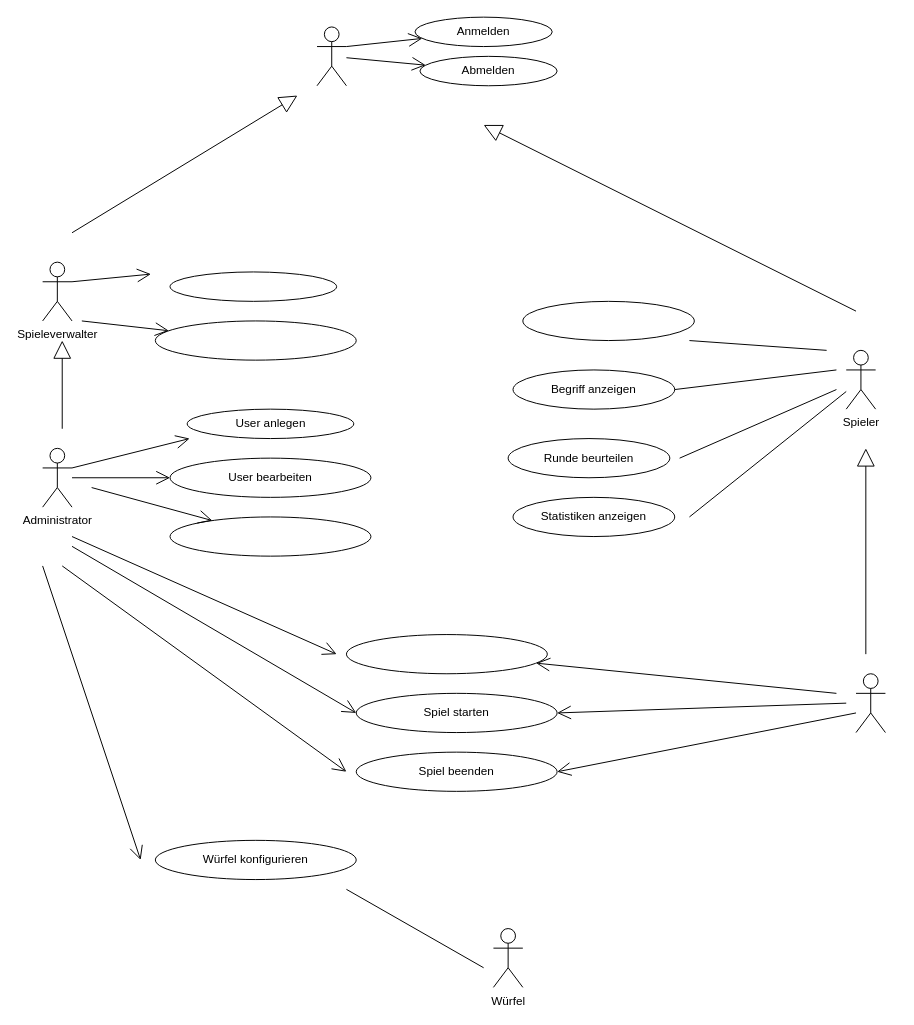
The diagram is 914 pixels wide and 1025 high, and some of its shapes have lost their labels. The centre of each missing label's shape, as x and y in pixels:
"aktuelle Spiele überwachen" belongs at pixel 255 340.
"neues Thema anlegen" belongs at pixel 253 286.
"Spiel konfigurieren" belongs at pixel 446 654.
"Spielehost" belongs at pixel 870 703.
"Spielteilnahme bestätigen" belongs at pixel 608 320.
"User" belongs at pixel 331 56.
"User löschen" belongs at pixel 270 536.
